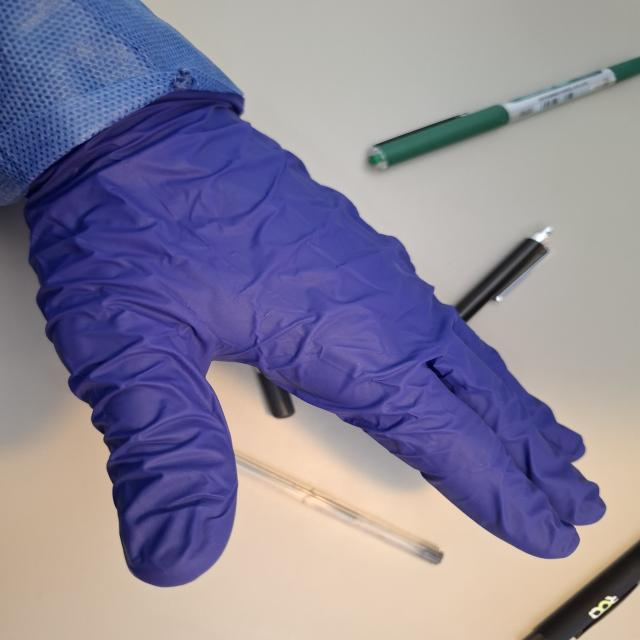glove_on: (19, 77, 611, 589)
